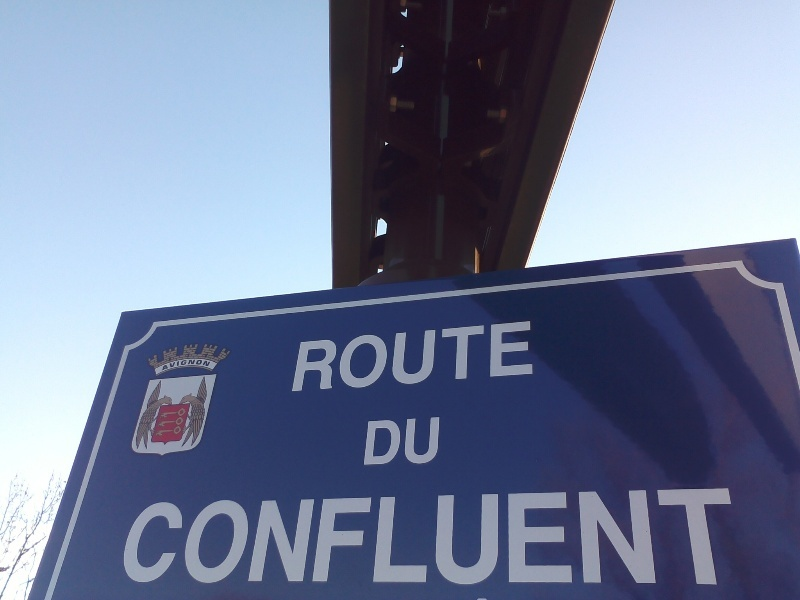text: (145, 485, 160, 586), (161, 485, 176, 586), (177, 485, 192, 586), (193, 485, 208, 586), (209, 485, 224, 586), (225, 485, 240, 586), (241, 485, 256, 586), (257, 485, 272, 586), (273, 485, 288, 586), (289, 485, 304, 586), (305, 485, 320, 586), (321, 485, 336, 586), (337, 485, 352, 586), (353, 485, 368, 586), (369, 485, 384, 586), (385, 485, 400, 586), (401, 485, 416, 586), (417, 485, 432, 586), (433, 485, 448, 586), (449, 485, 464, 586), (465, 485, 480, 586), (481, 485, 496, 586), (497, 485, 512, 586), (513, 485, 528, 586), (529, 485, 544, 586), (545, 485, 560, 586), (561, 485, 576, 586), (577, 485, 592, 586), (593, 485, 608, 586), (609, 485, 624, 586), (625, 485, 640, 586), (641, 485, 656, 586), (657, 485, 672, 586), (673, 485, 688, 586), (689, 485, 704, 586), (705, 485, 720, 586), (721, 485, 736, 586), (737, 485, 751, 586), (132, 485, 144, 586), (305, 320, 320, 393), (321, 320, 336, 393), (337, 320, 352, 393), (353, 320, 368, 393), (369, 320, 384, 393), (385, 320, 400, 393), (401, 320, 416, 393), (417, 320, 432, 393), (433, 320, 448, 393), (449, 320, 464, 393), (465, 320, 480, 393), (481, 320, 496, 393), (497, 320, 512, 393), (513, 320, 528, 393), (369, 417, 384, 466), (385, 417, 400, 466), (401, 417, 416, 466), (417, 417, 432, 466), (433, 417, 442, 466), (529, 320, 535, 393), (177, 357, 192, 372), (193, 357, 208, 372), (301, 320, 304, 393), (164, 357, 176, 372), (209, 357, 212, 372)
